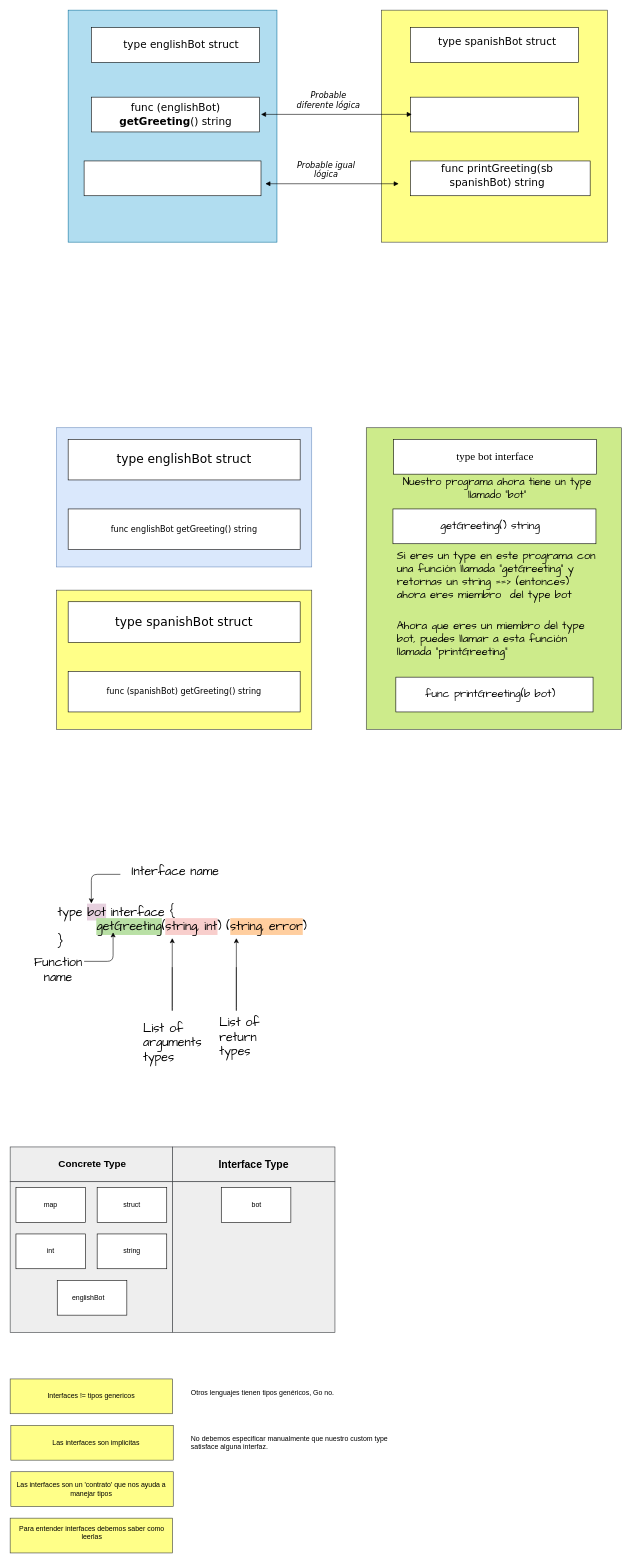
Image size: 632x1563. Some labels were removed from this diagram. The centre of each missing label's shape, as x and y in pixels:
"func (spanishBot) getGreeting () string" goes at point 494,114.
"func printGreeting (eb englishBot) string" goes at point 172,178.
